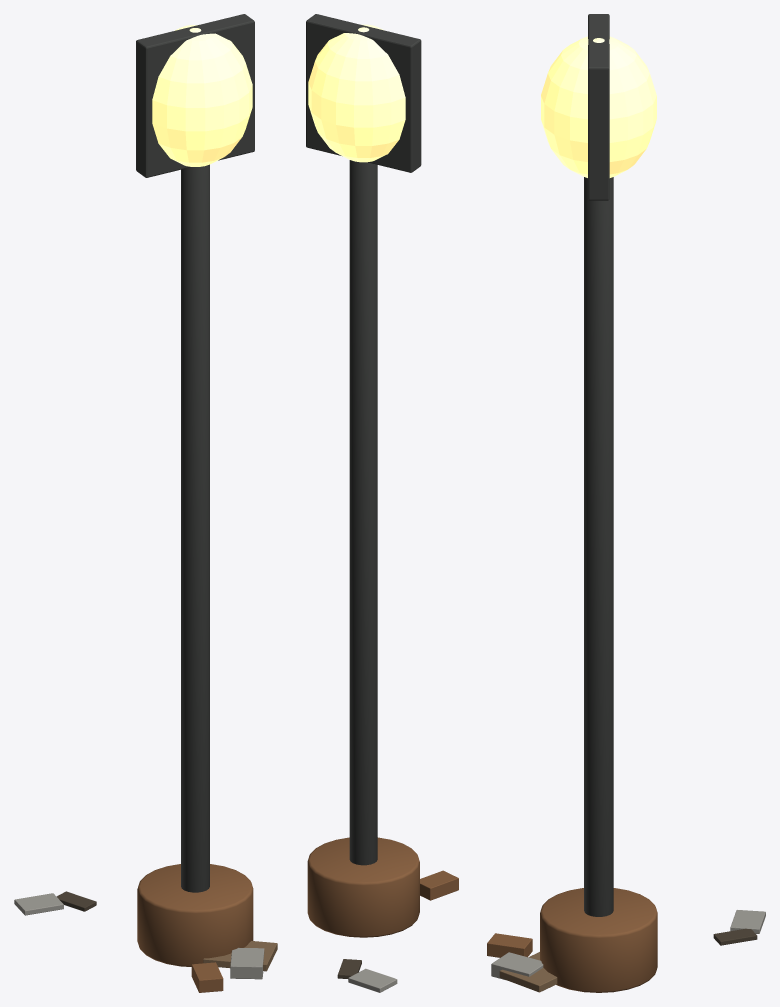
File: dz_urban_lamp_post_premium.glb
3 renders of one model, left to right at view 1: azimuth 30°, elevation 25°; view 2: azimuth 150°, elevation 25°; view 3: azimuth 270°, elevation 25°, orthographic. The views are drawn at different scales.
Parts seen in each view (by area): view 1: tall_lamp_post, warm_cracked_lantern, lamp_base_tier, lantern_frame, lamp_debris_02, lamp_debris_04, lamp_debris_03, lamp_debris_00; view 2: tall_lamp_post, warm_cracked_lantern, lamp_base_tier, lantern_frame, lamp_debris_04, lamp_debris_03, lamp_debris_01; view 3: tall_lamp_post, lamp_base_tier, warm_cracked_lantern, lantern_frame, lamp_debris_04, lamp_debris_02, lamp_debris_00, lamp_debris_03.
Boxes of the visible parts, x1=… form: tall_lamp_post: x1=181, y1=164, x2=209, y2=892; warm_cracked_lantern: x1=152, y1=25, x2=252, y2=166; lamp_base_tier: x1=137, y1=864, x2=253, y2=966; lantern_frame: x1=136, y1=14, x2=254, y2=177; lamp_debris_02: x1=230, y1=947, x2=264, y2=979; lamp_debris_04: x1=191, y1=962, x2=223, y2=992; lamp_debris_03: x1=14, y1=893, x2=63, y2=915; lamp_debris_00: x1=203, y1=941, x2=277, y2=971; tall_lamp_post: x1=349, y1=160, x2=377, y2=865; warm_cracked_lantern: x1=308, y1=24, x2=405, y2=162; lamp_base_tier: x1=307, y1=837, x2=419, y2=937; lantern_frame: x1=306, y1=14, x2=421, y2=172; lamp_debris_04: x1=420, y1=870, x2=458, y2=900; lamp_debris_03: x1=348, y1=968, x2=397, y2=992; lamp_debris_01: x1=337, y1=959, x2=361, y2=978; tall_lamp_post: x1=584, y1=177, x2=613, y2=916; lamp_base_tier: x1=540, y1=888, x2=657, y2=992; warm_cracked_lantern: x1=541, y1=36, x2=656, y2=177; lantern_frame: x1=588, y1=14, x2=609, y2=200; lamp_debris_04: x1=487, y1=933, x2=532, y2=957; lamp_debris_02: x1=491, y1=952, x2=543, y2=979; lamp_debris_00: x1=499, y1=952, x2=557, y2=992; lamp_debris_03: x1=730, y1=910, x2=765, y2=933.
Size of the model in its own units: 0.6899 by 3.83 by 1.04.
